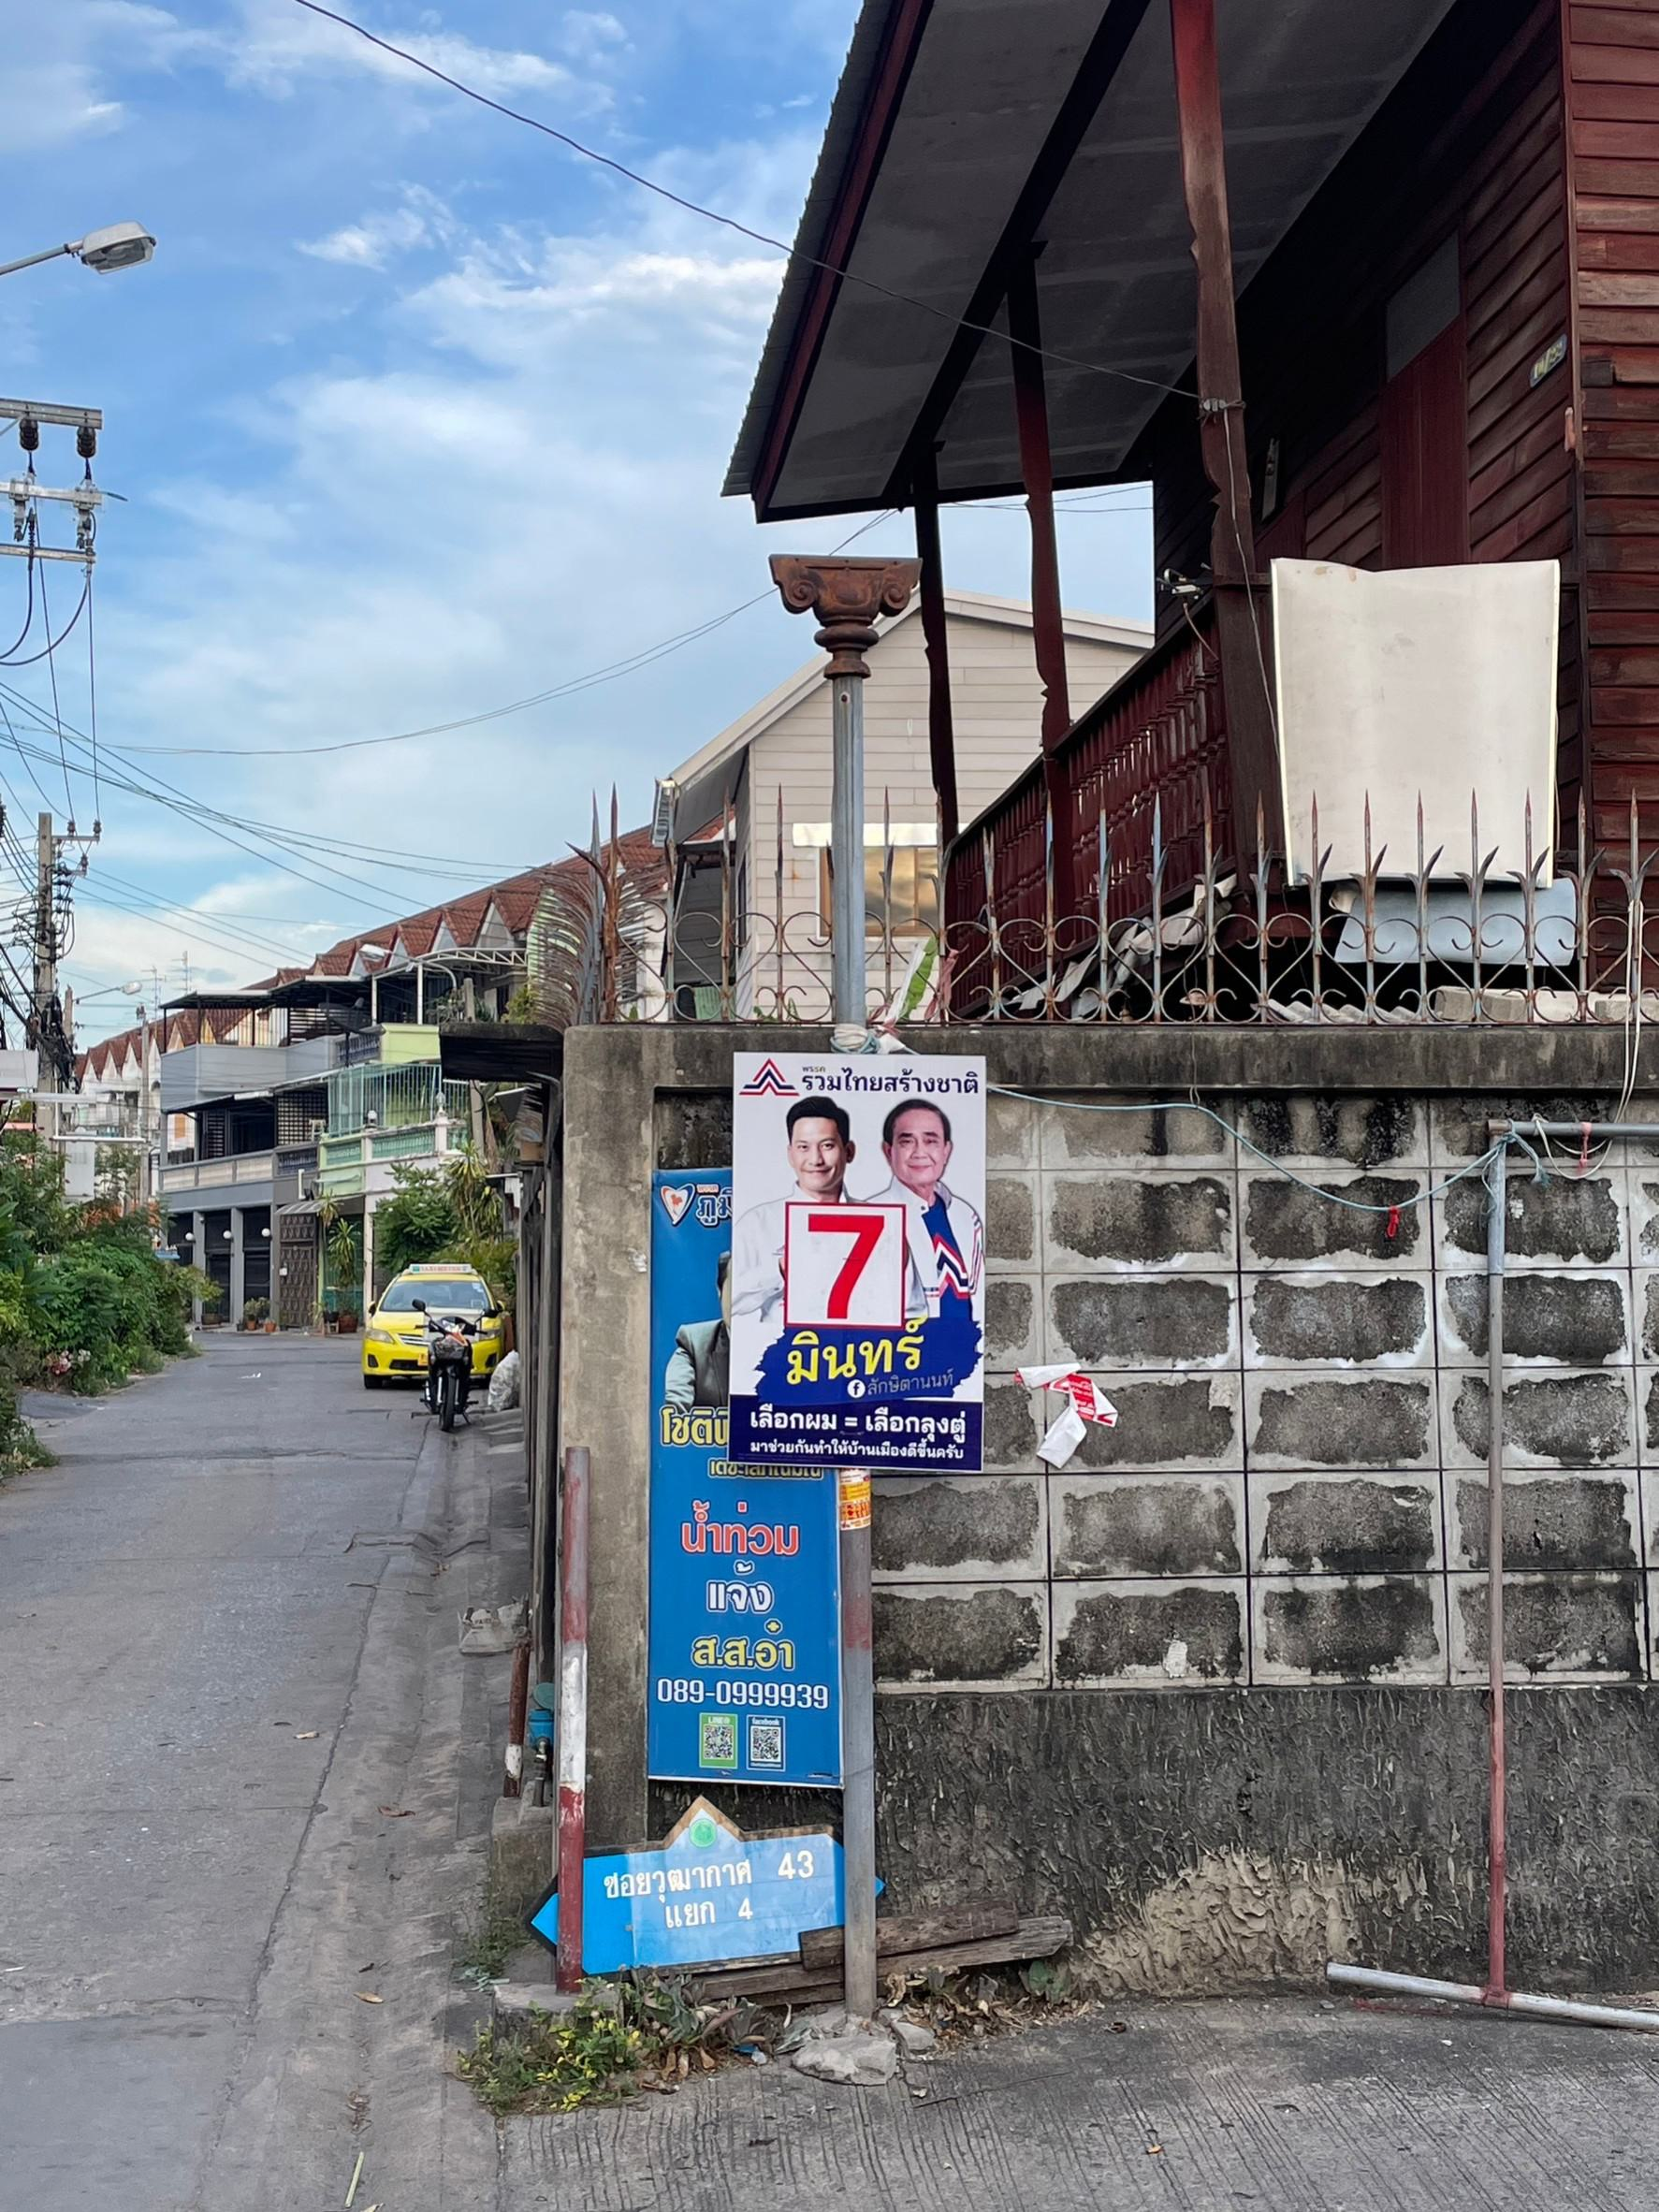Banner: (727, 1026, 1011, 1494)
